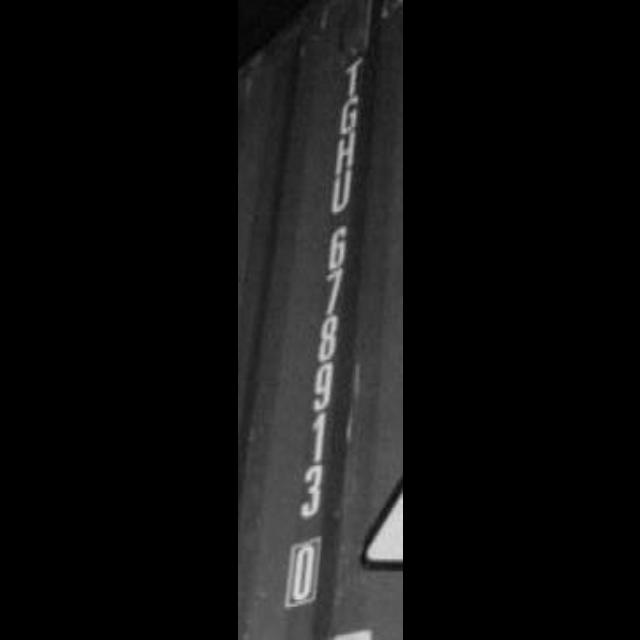0: (284, 534, 318, 606)
1: (302, 412, 338, 462)
3: (298, 458, 329, 514)
6: (322, 222, 351, 270)
7: (314, 266, 350, 318)
8: (308, 310, 344, 362)
9: (303, 361, 341, 413)
g: (338, 94, 368, 136)
h: (328, 134, 362, 170)
t: (342, 55, 368, 95)
u: (326, 168, 358, 216)
